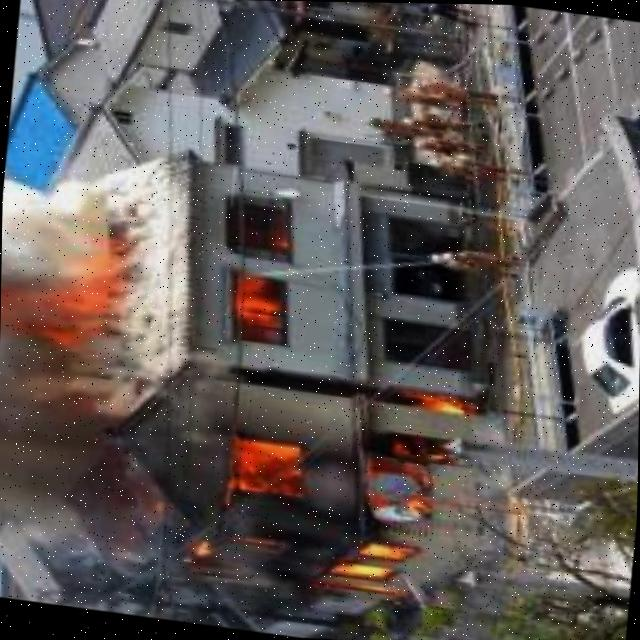fire: (176, 357, 472, 626), (1, 214, 129, 354), (228, 217, 295, 347)
